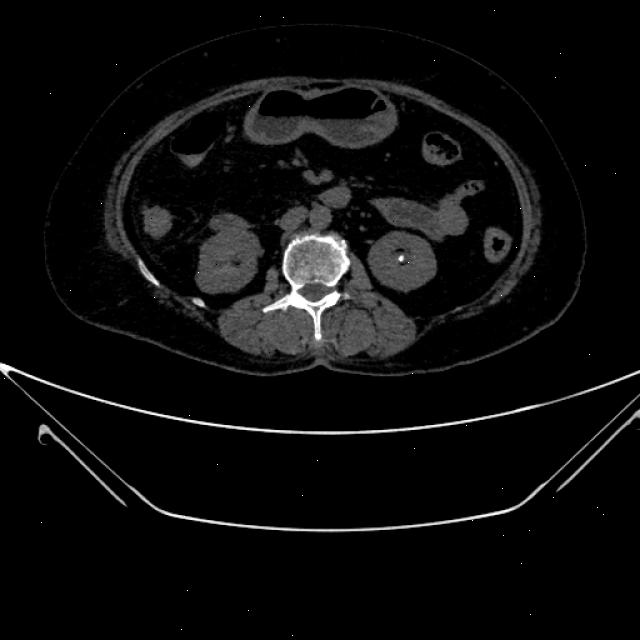kidneystone: (397, 250, 404, 263)
